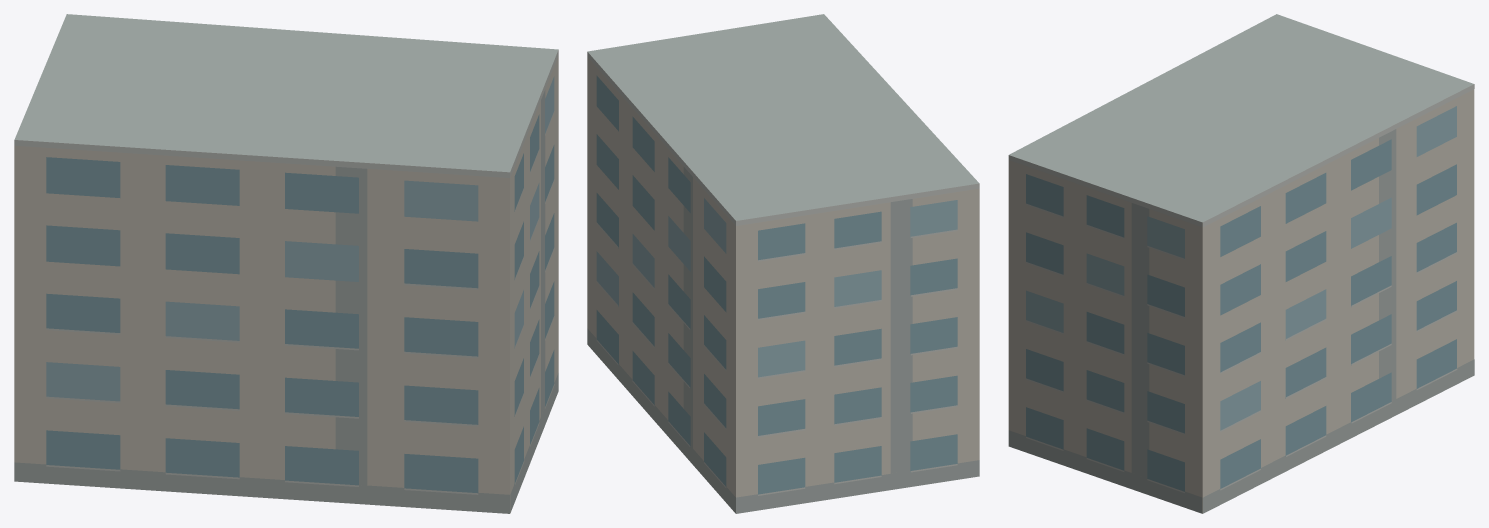
File: survey-upis-32960183.glb
3 views of the same model, side by side, from view 1: azimuth 30°, elevation 25°; view 2: azimuth 150°, elevation 25°; view 3: azimuth 270°, elevation 25° (orthographic). The views are drawn at different scales.
Visible parts, largest first — view 1: survey-upis-32960183.tmp; view 2: survey-upis-32960183.tmp; view 3: survey-upis-32960183.tmp.
Part boxes in pixels (box(x1,y1,x2,y2)): survey-upis-32960183.tmp: box(14, 14, 558, 513); survey-upis-32960183.tmp: box(587, 14, 979, 513); survey-upis-32960183.tmp: box(1008, 14, 1474, 513).
Bounding box in the file's own units: 21.8 × 14.2 × 20.58.
